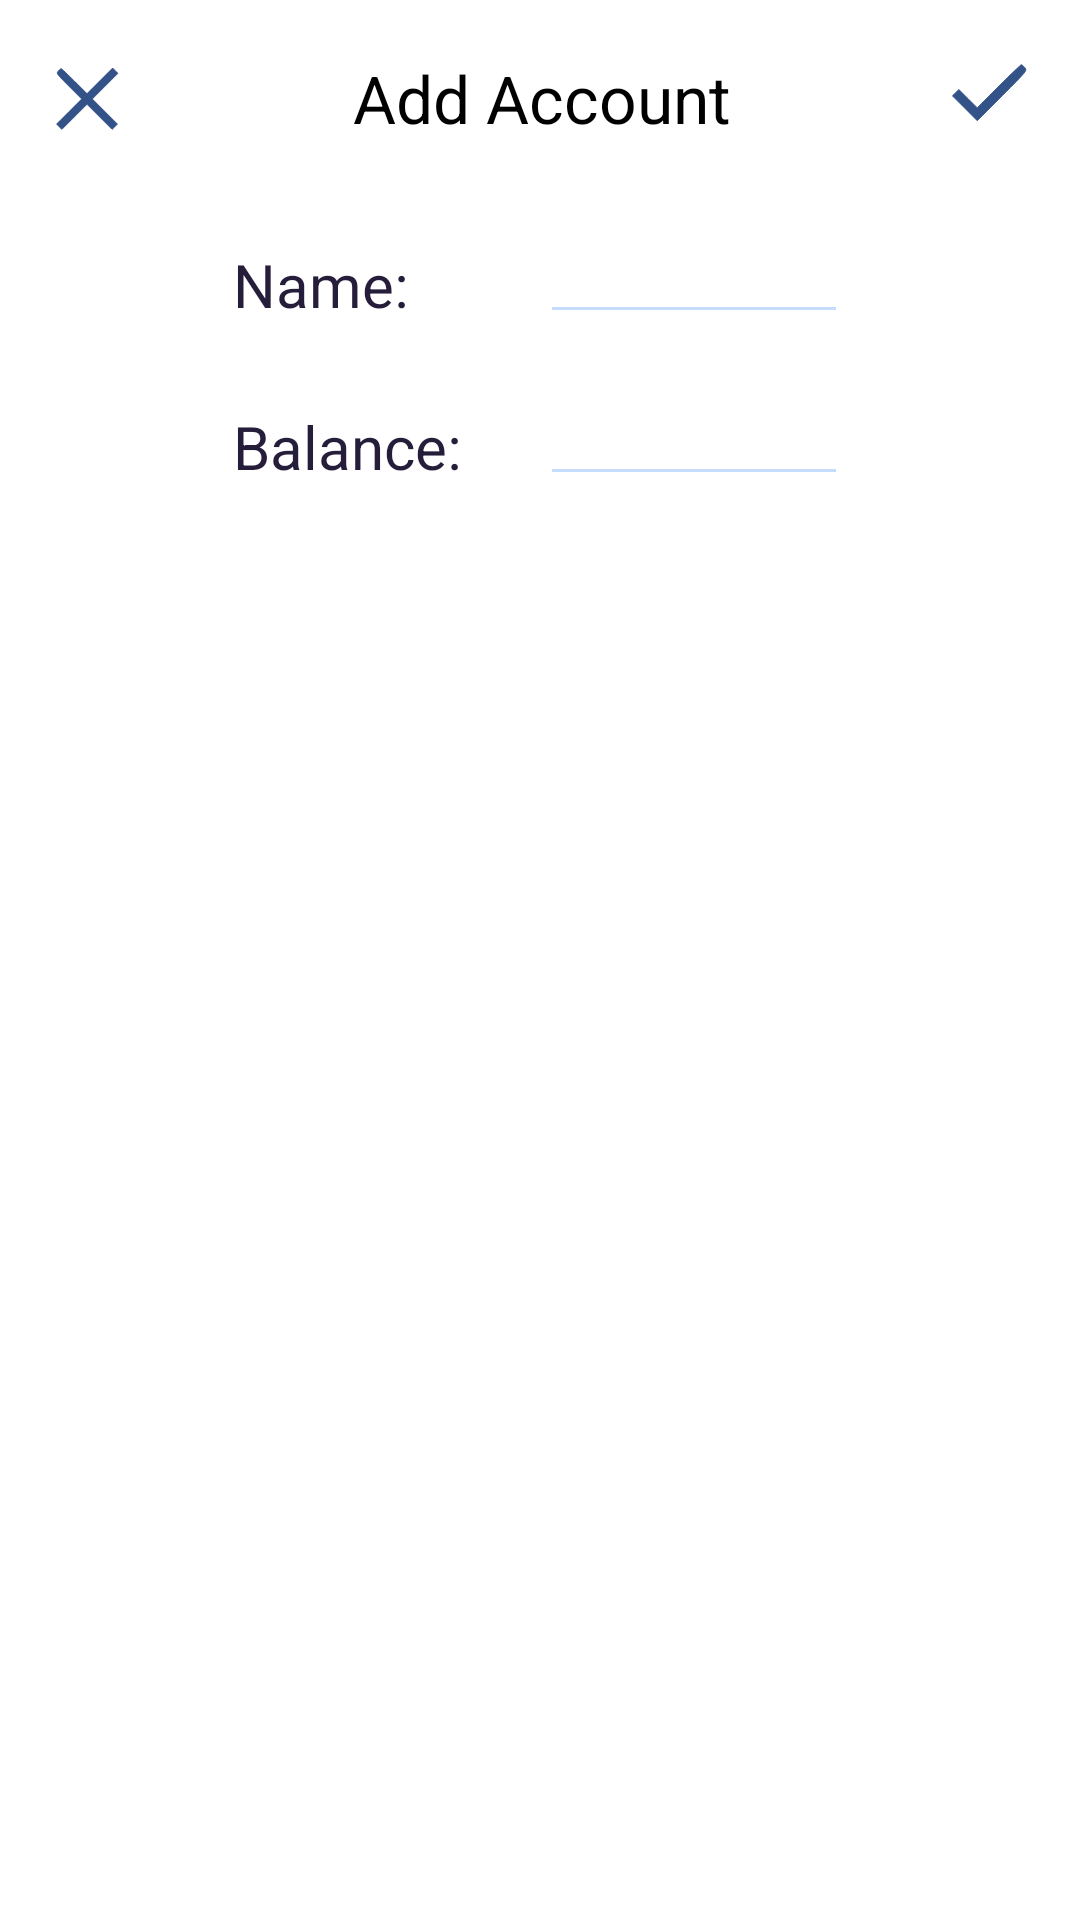

Icon click points for this 1080x1920 phone screenshot, format point (x, y):
close: point (87, 99)
done: point (989, 92)
